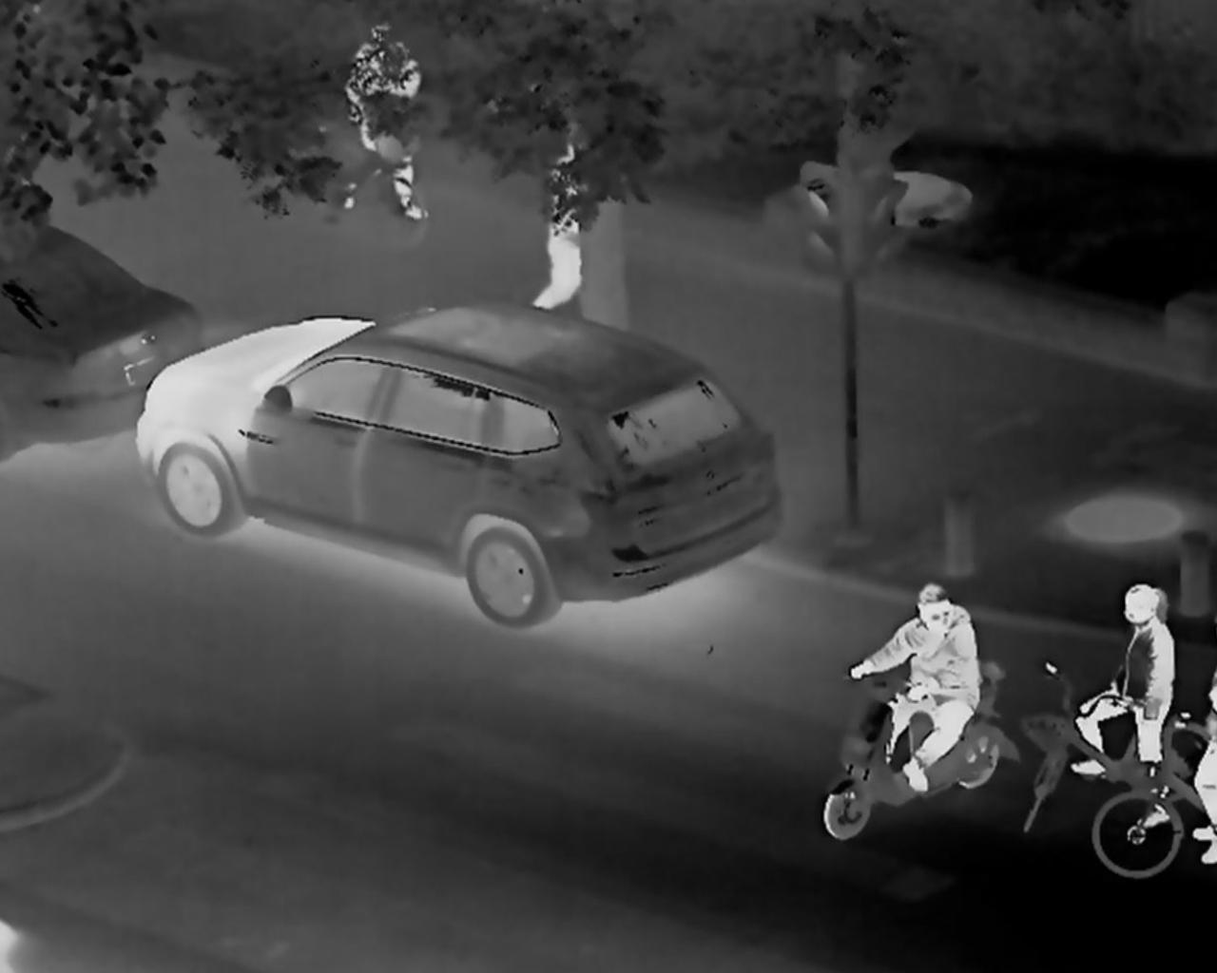person: (846, 582, 987, 800), (1062, 580, 1177, 830), (337, 14, 428, 227), (533, 132, 589, 313)
